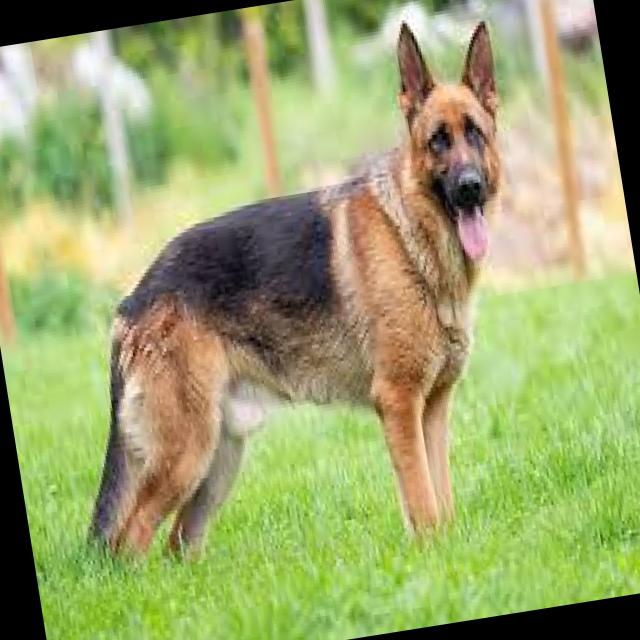DOG: (11, 3, 568, 594)
